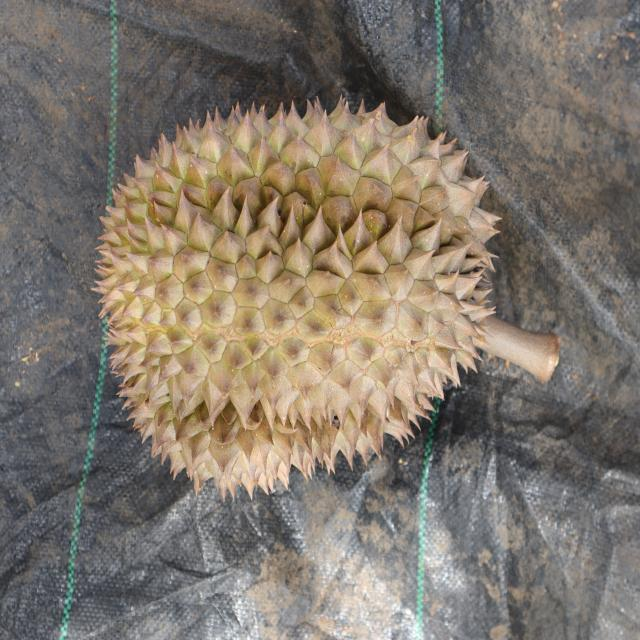mature: (93, 95, 500, 504)
